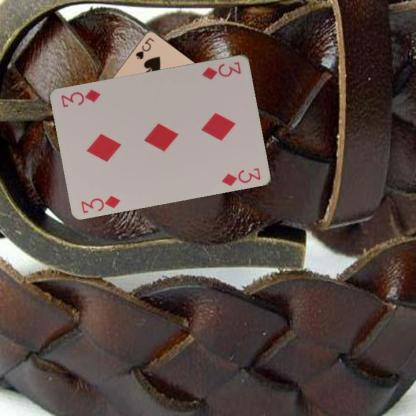3d: (199, 59, 243, 81), (78, 192, 122, 214)
5s: (133, 34, 156, 60)
